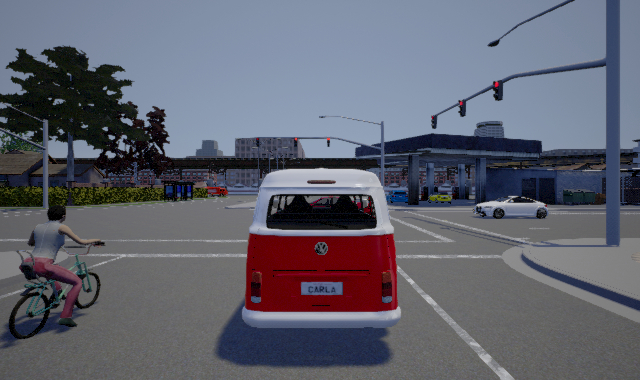bike: (8, 203, 105, 339)
traffic_light: (493, 80, 503, 101), (458, 99, 466, 117), (431, 115, 437, 129), (256, 137, 260, 147), (327, 137, 330, 147), (294, 137, 297, 147)
vehicle: (242, 168, 401, 328), (473, 196, 549, 219), (426, 192, 453, 205), (387, 188, 409, 203)
